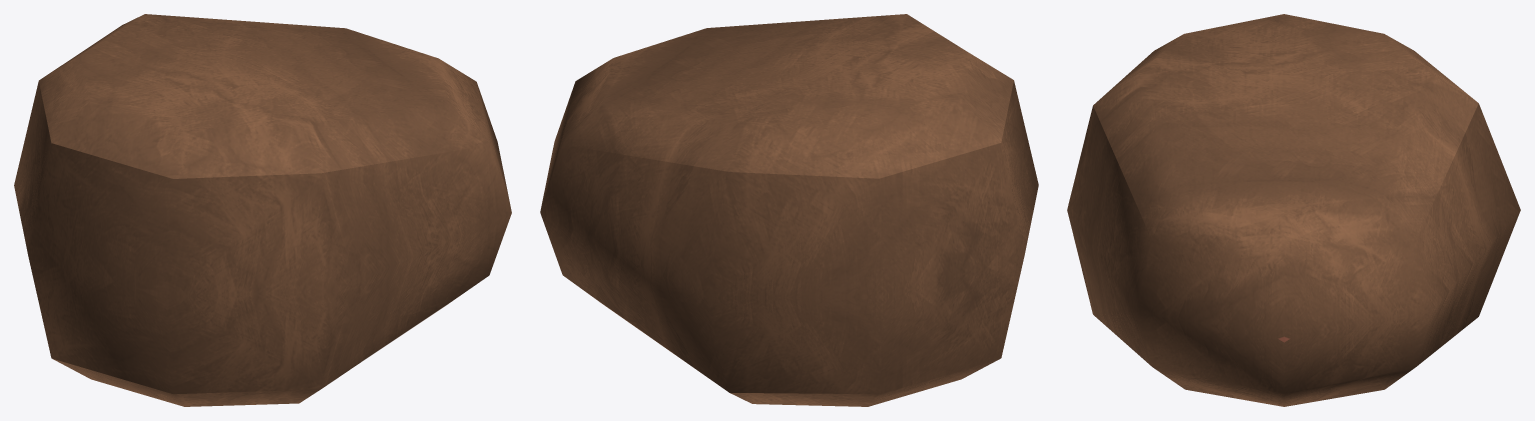
File: Stone02.glb
3 views of the same model, side by side, from view 1: azimuth 30°, elevation 25°; view 2: azimuth 150°, elevation 25°; view 3: azimuth 270°, elevation 25° (orthographic). The views are drawn at different scales.
Parts seen in each view (by area): view 1: Stone02; view 2: Stone02; view 3: Stone02.
Boxes of the visible parts, <box> form: Stone02: <box>14,14,511,406</box>; Stone02: <box>540,14,1038,406</box>; Stone02: <box>1067,14,1520,406</box>.
Bounding box in the file's own units: 1.78 × 1 × 1.54.
1 material, 1 textured.
